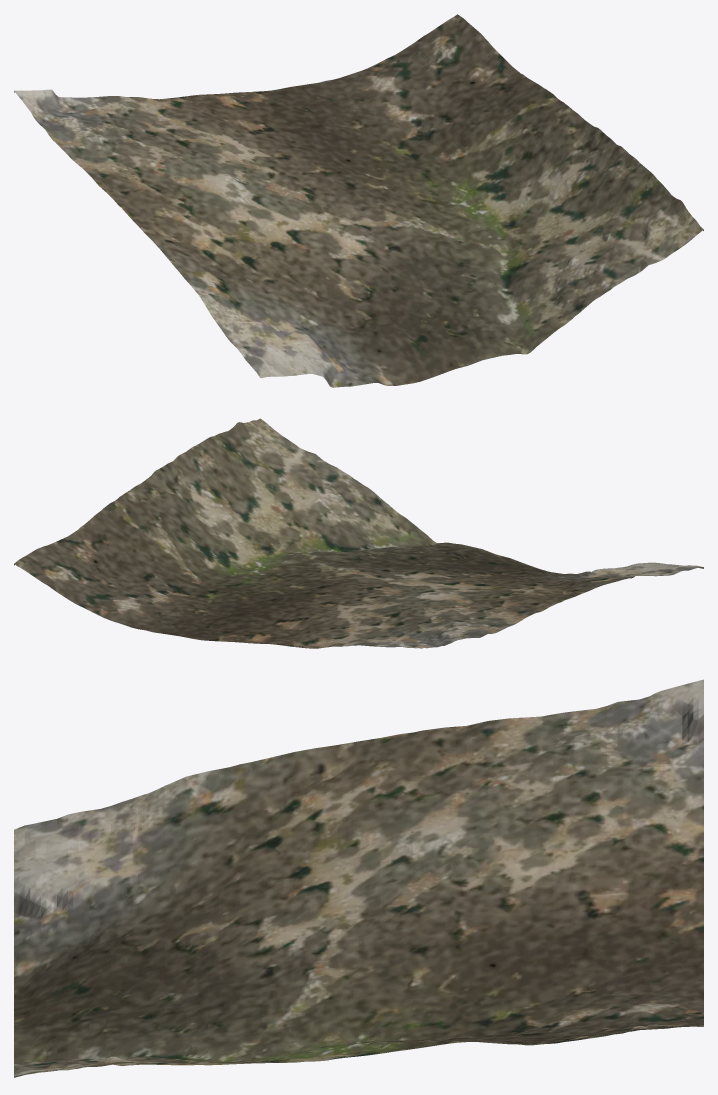
3 views of the same model, one above another, from view 1: azimuth 30°, elevation 25°; view 2: azimuth 150°, elevation 25°; view 3: azimuth 270°, elevation 25° (orthographic). The views are drawn at different scales.
Size of the model in its own units: 250 by 81.57 by 241.
Materials: 1 (1 with a texture image).
